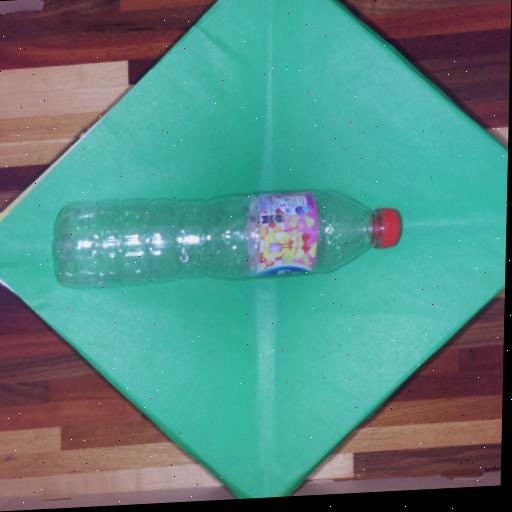bottle: (55, 192, 400, 286)
